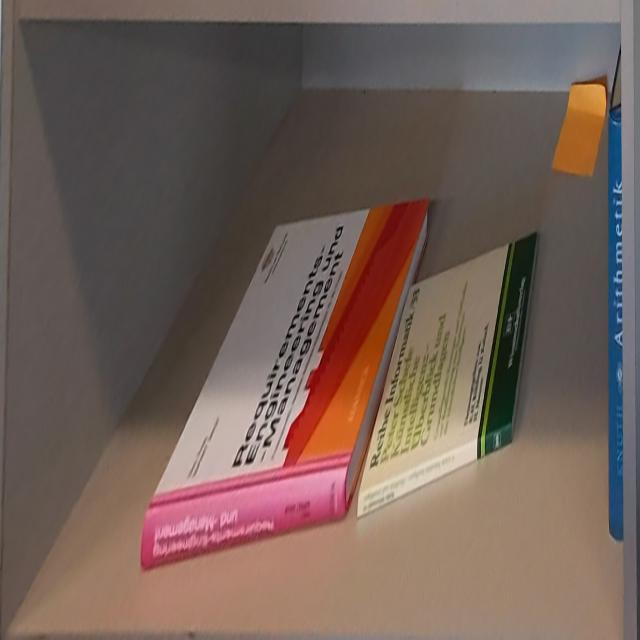Book Spine: (141, 467, 347, 571), (356, 422, 512, 520), (609, 116, 624, 541)
